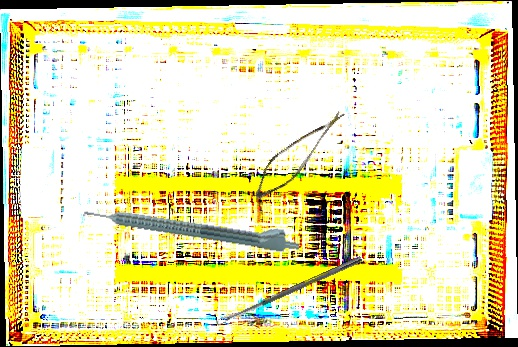Handpiece: (82, 196, 302, 255)
Micro Scissor: (249, 94, 345, 212)
Surgical Spoon: (215, 255, 363, 326)
